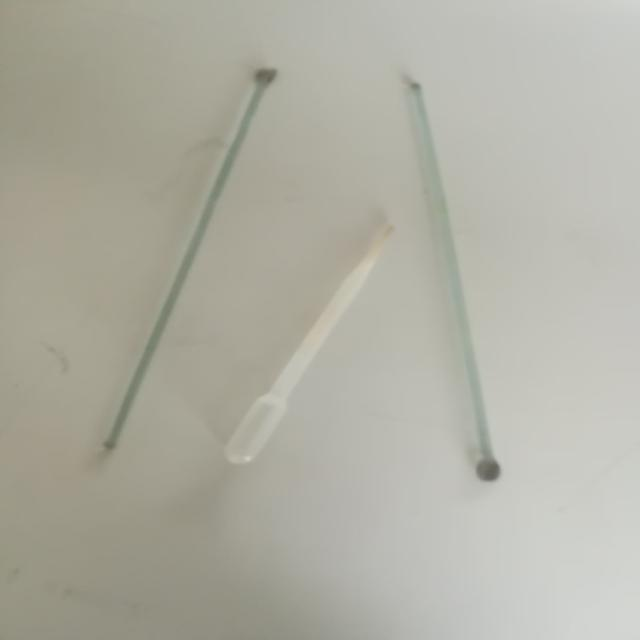Glass_Rod: (62, 63, 304, 475), (400, 60, 540, 485)
Pipette: (218, 213, 407, 494)
